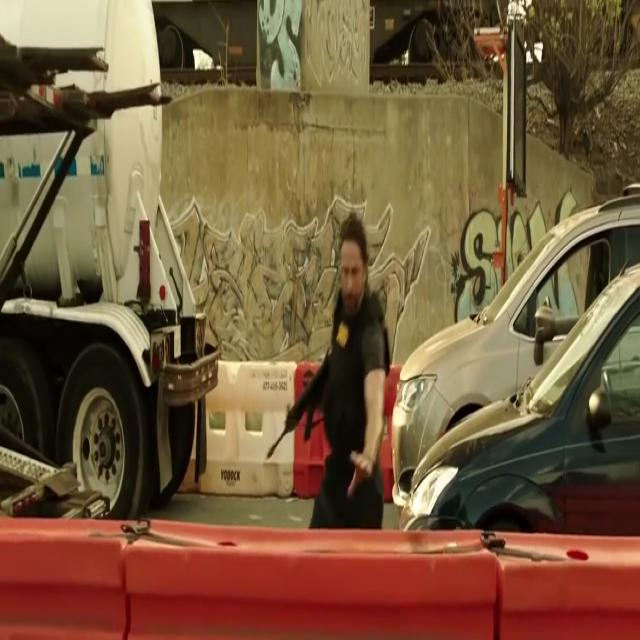Weapon: (253, 361, 361, 469)
